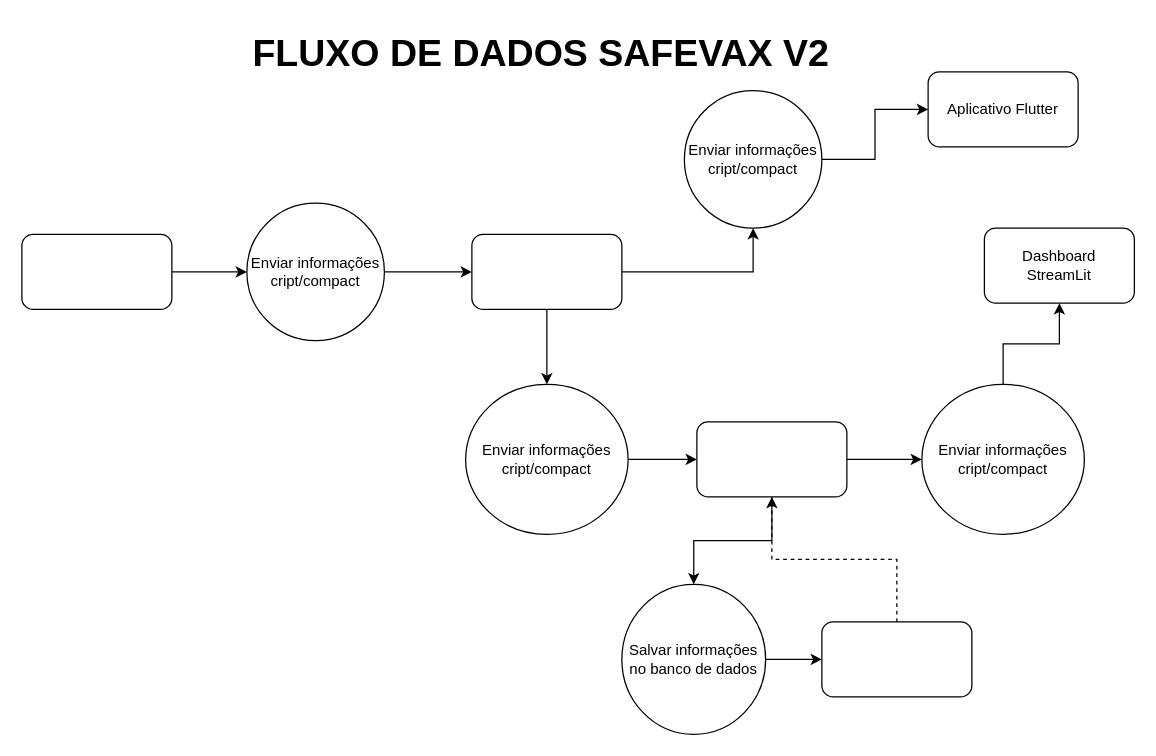
Image size: 1156x756. Some labels were removed from this diagram. Each missing label, with the box of its shape:
Banco de dados SQLite: (821, 621, 972, 697)
SafeVax V2 Freezer: (21, 233, 172, 309)
Servidor Flask: (696, 421, 847, 497)
Servidor MQTT: (471, 233, 622, 309)
